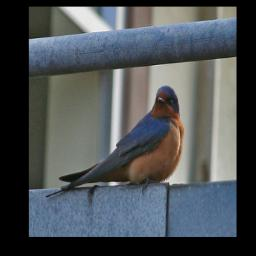Swallow: (45, 85, 185, 199)
